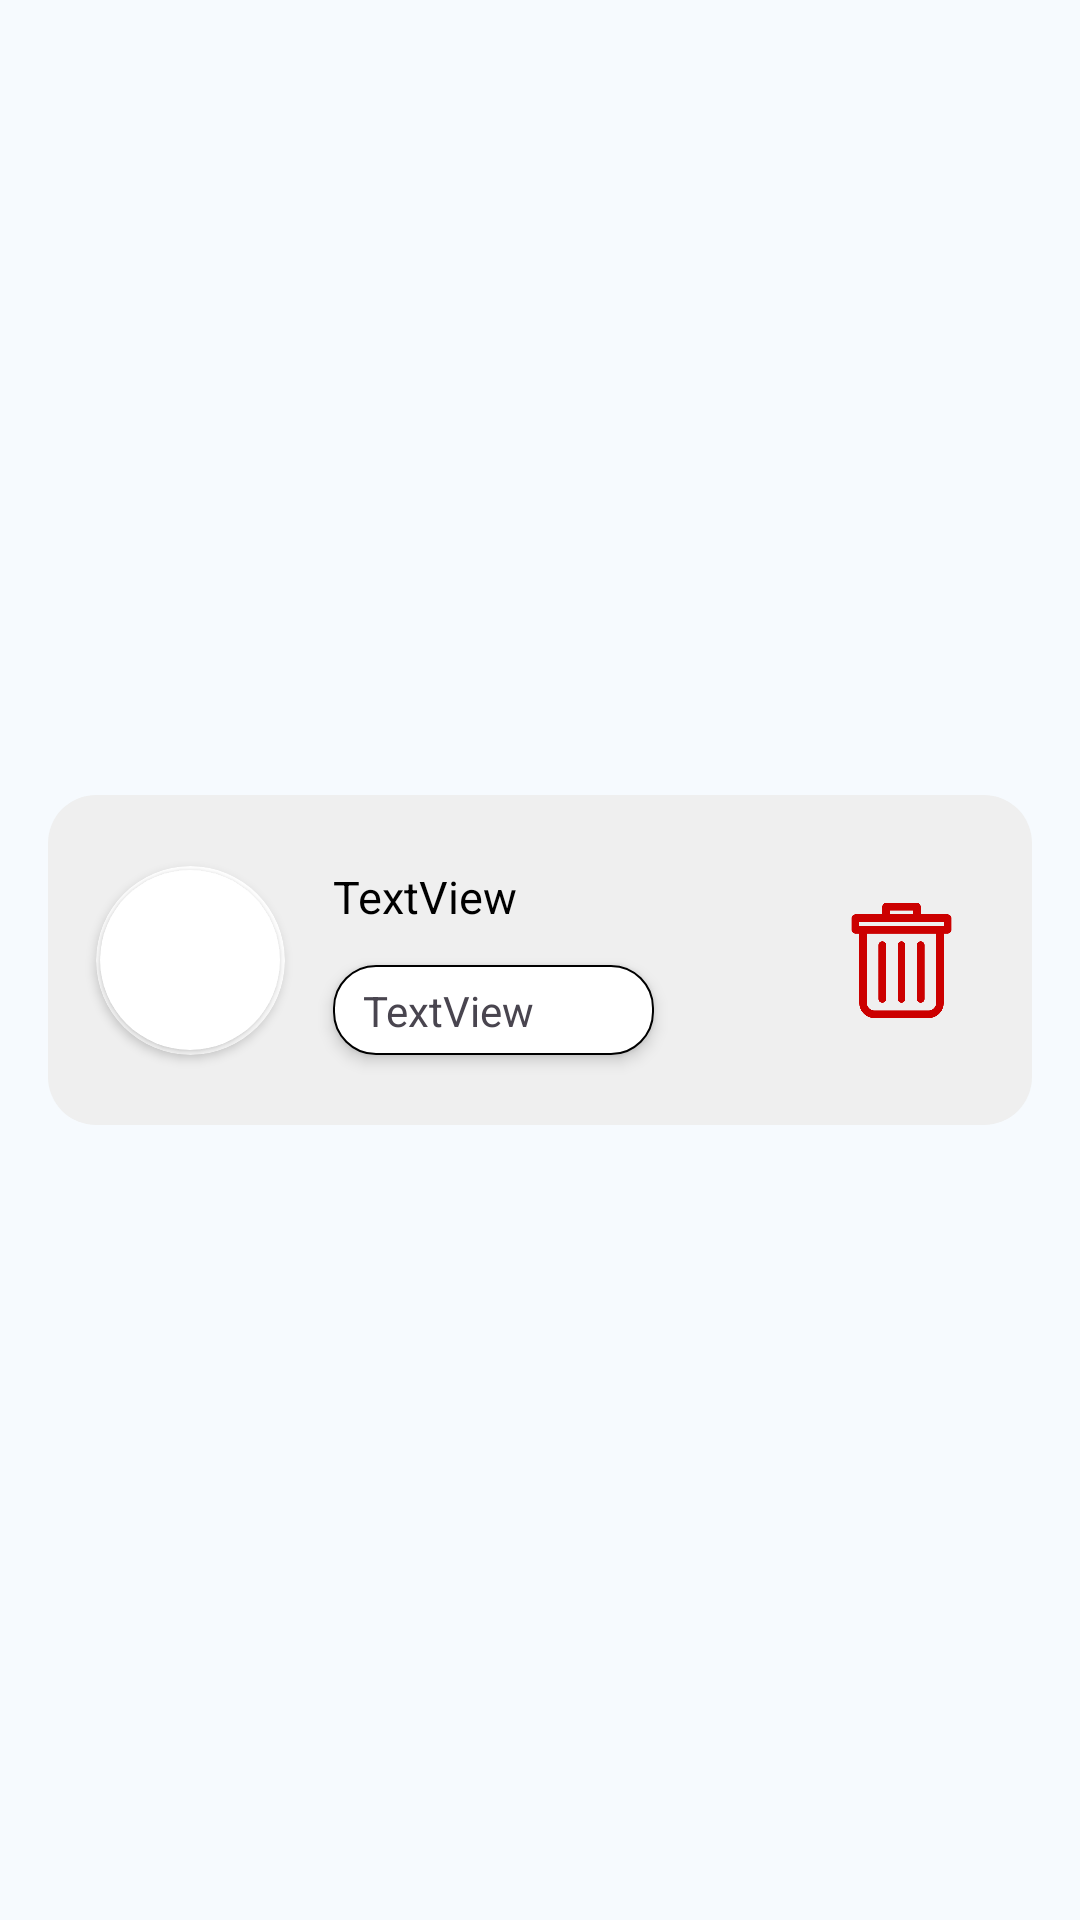

Named icons in this screenshot (1080*1920) and their bounding boxes, (x1, y1, x2, y2):
bin: (851, 903, 952, 1018)
